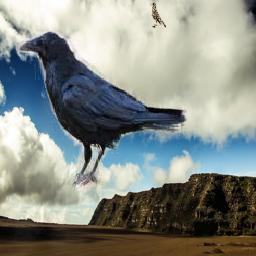Crow: (17, 29, 188, 191)
Sparrow: (150, 2, 167, 29)
